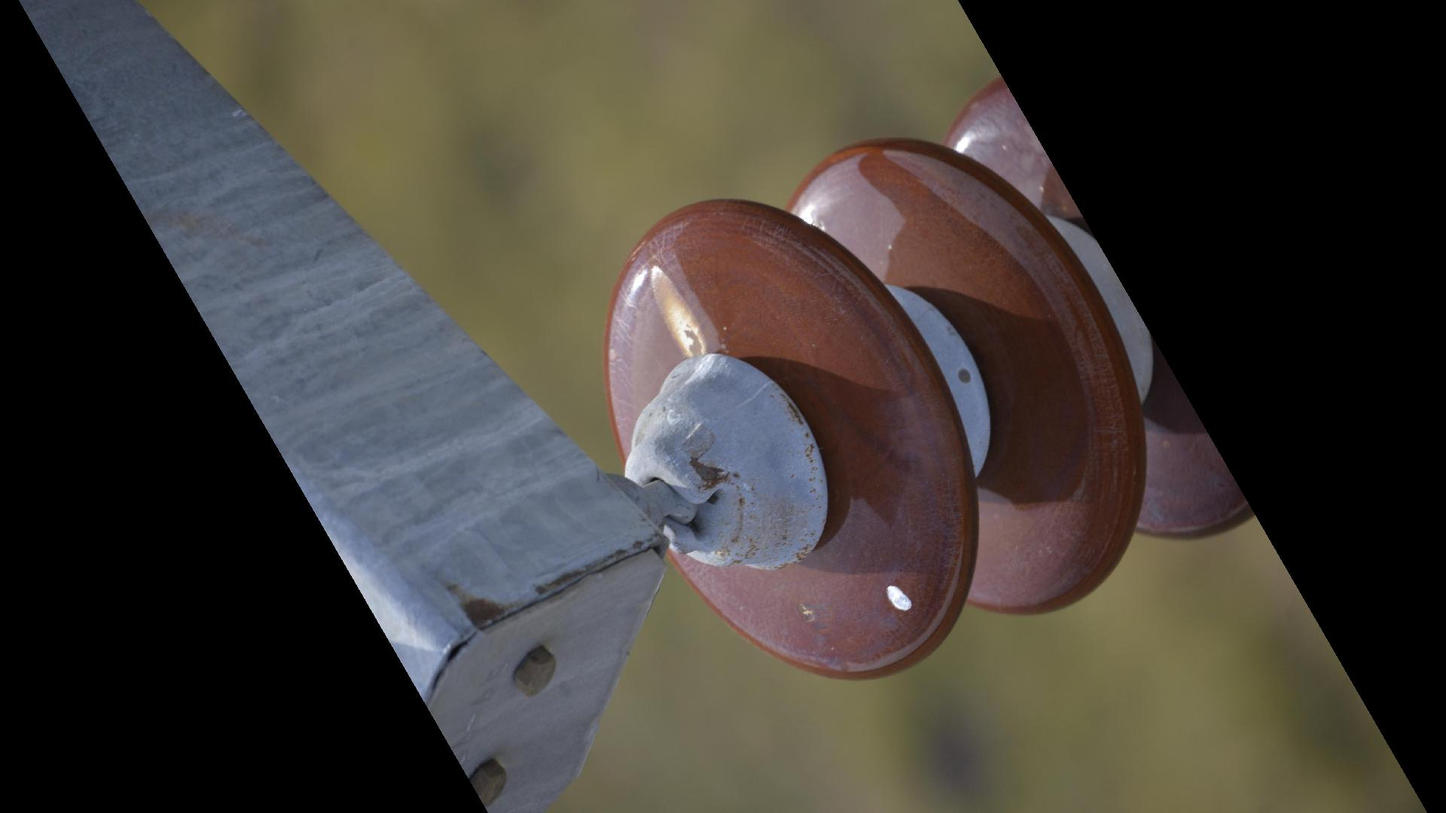insulator: (593, 71, 1259, 690)
insulator_flashover: (642, 257, 721, 363)
